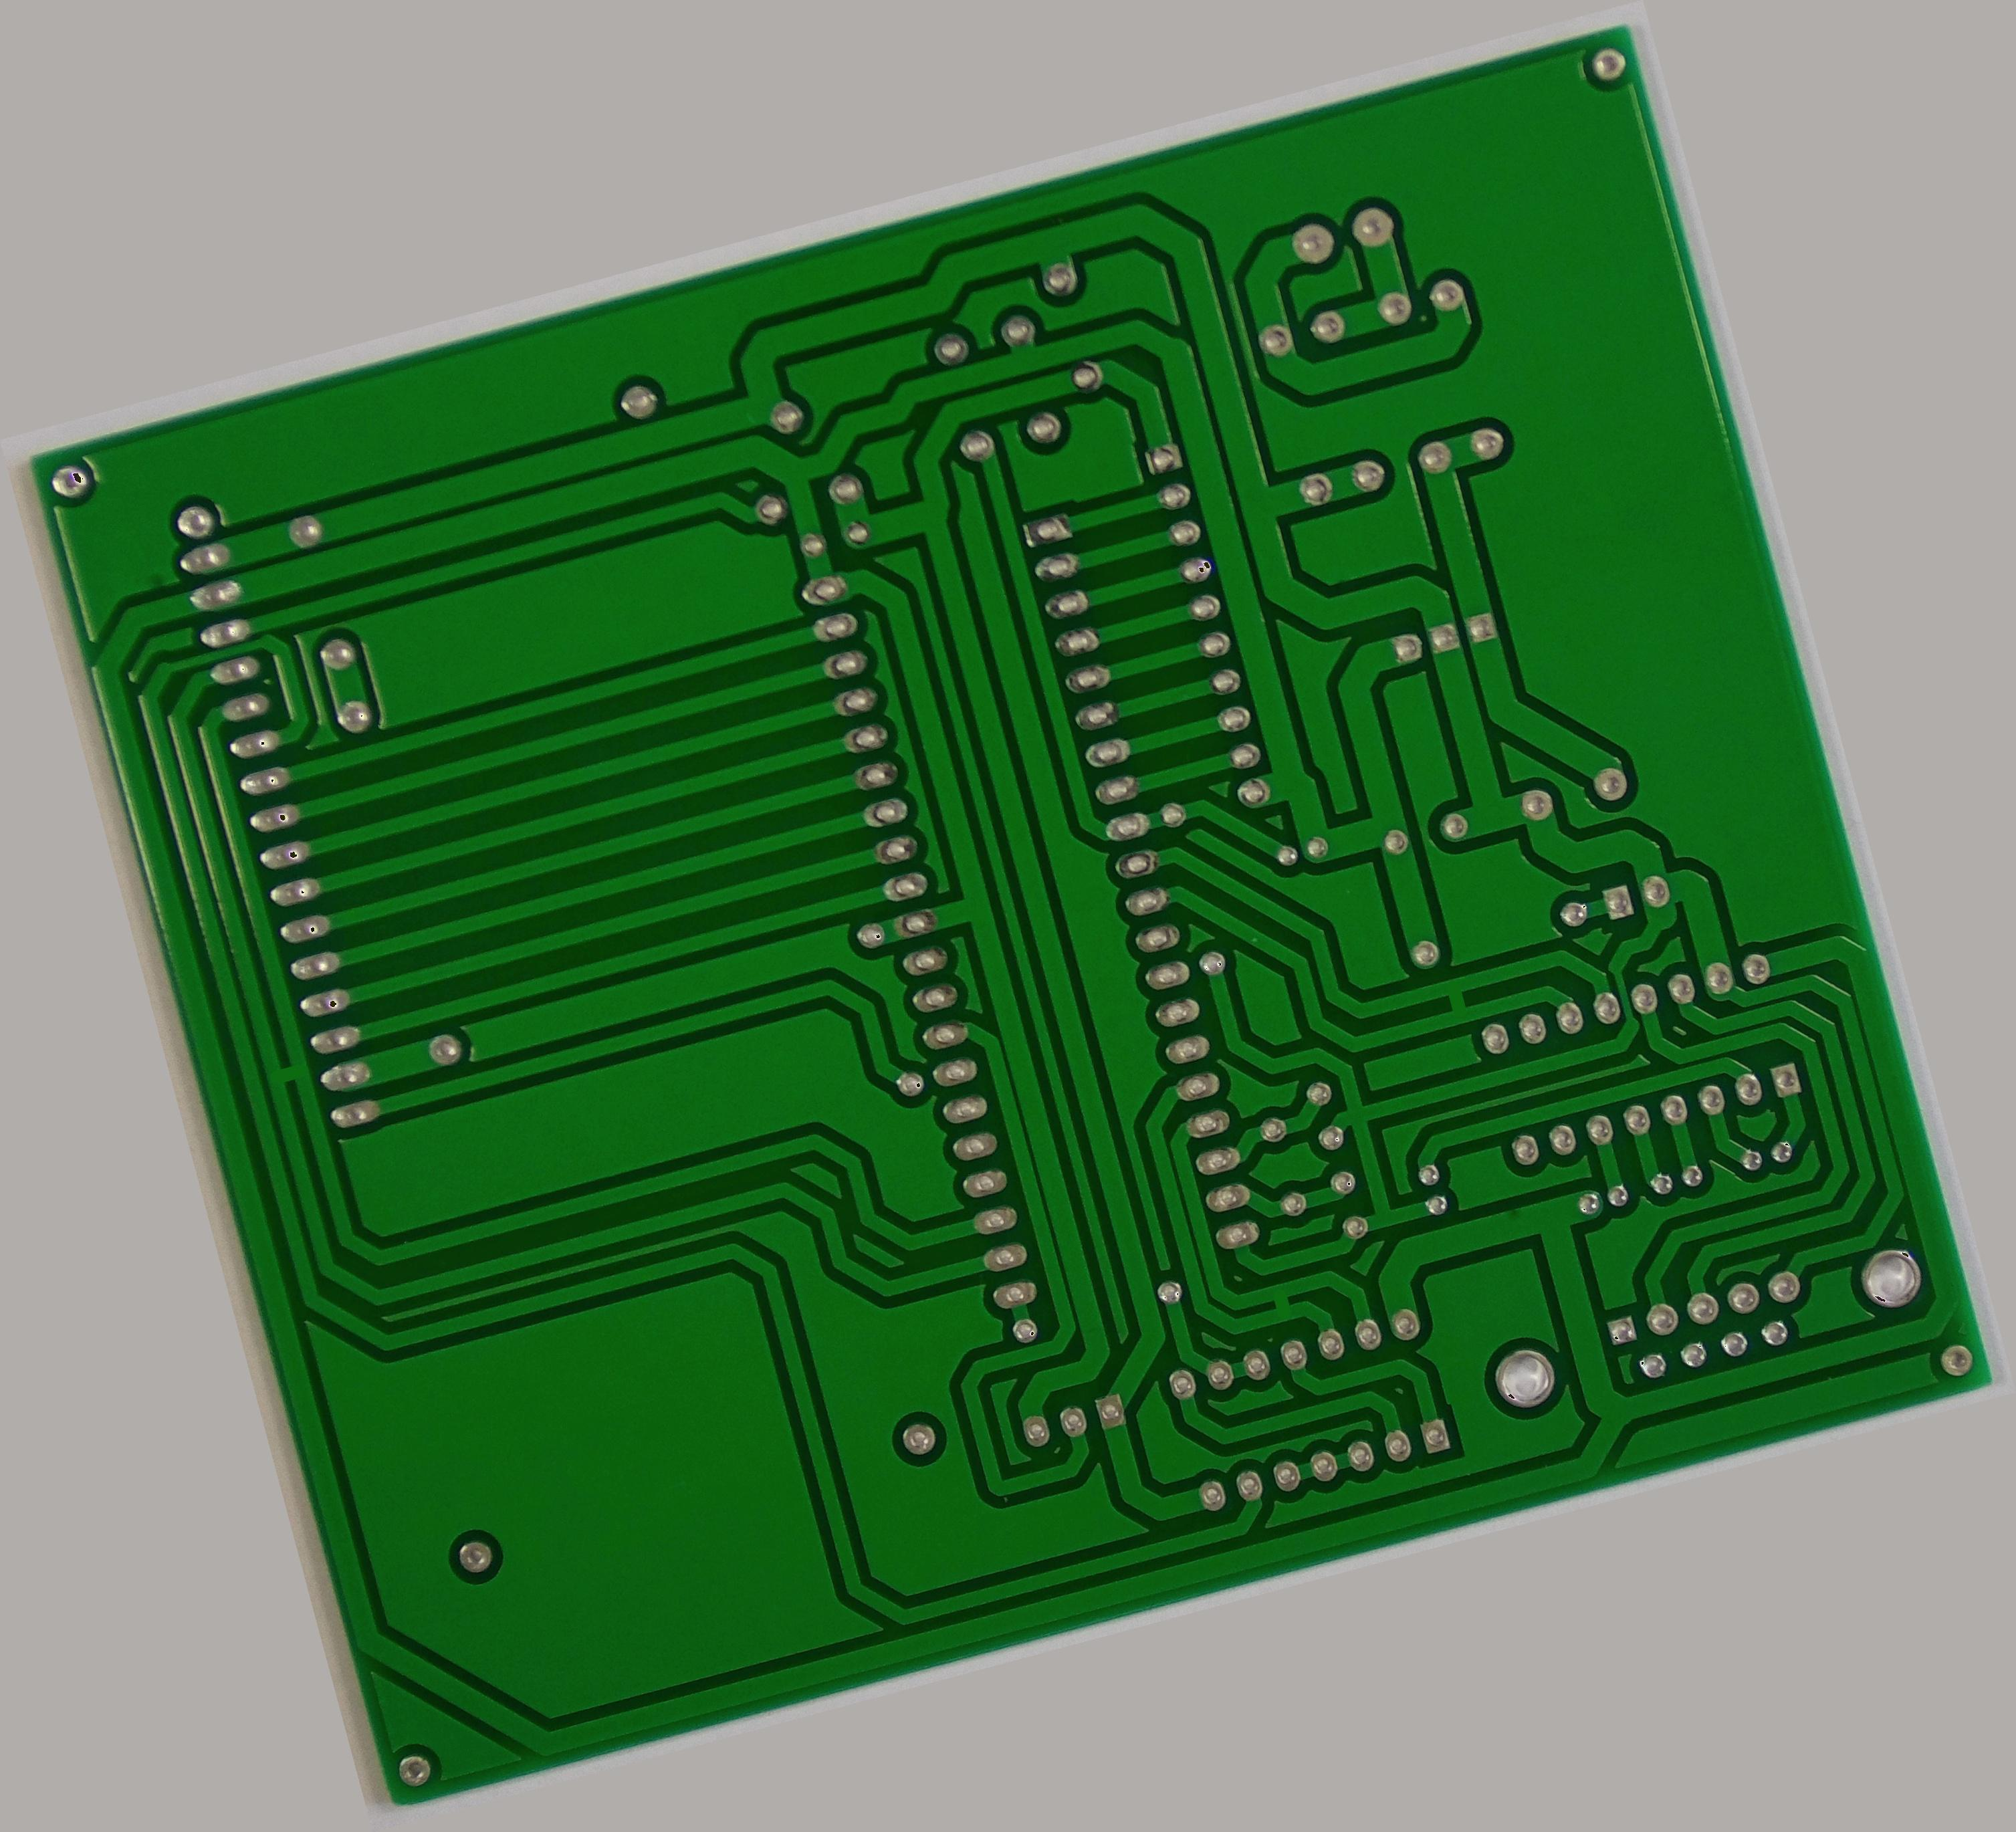short: (1422, 971, 1486, 1031), (1254, 1272, 1308, 1326), (260, 1047, 314, 1100)
